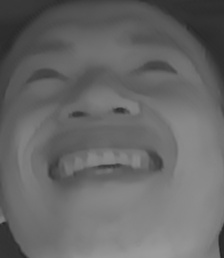eye: (126, 56, 181, 82), (23, 61, 66, 89)
mouth: (32, 132, 168, 194)
